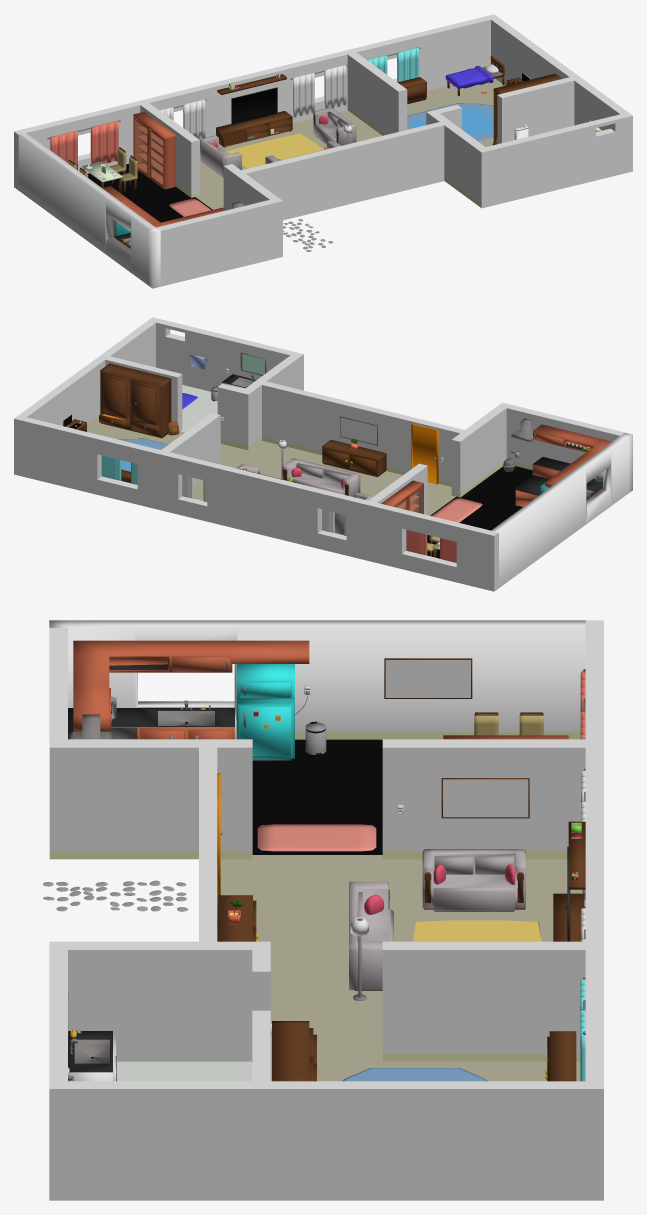
Rendered from HouseVariation.fbx.
The picture shows the model from 3 angles, top to bottom: view 1: azimuth 30°, elevation 25°; view 2: azimuth 150°, elevation 25°; view 3: azimuth 270°, elevation 25°; orthographic projection. The views are drawn at different scales.
Visible parts, largest first — view 1: Wall10, Wall8.001, Wall8.002, Wall7, Wall8, Ground, Wall9, Wall4, Wall1, Cube.003, Wall3, Wall6 (+19 smaller); view 2: Wall10, Wall7, Wall8.001, Ground, Wall8.002, Wall9, Closet, Wall5, Wall8, Wall3, Sofa, Wall1 (+14 smaller); view 3: Wall9, Ground, Wall7, Wall1, Wall5, Wall3, Wall6, Wall10, Kitchen Sink.002, Sofa.002, Refrigerator, Kitchen Sink (+18 smaller).
Boxes of the visible parts, box(x1,y1,x2,y2) form: Wall10: box(14, 14, 498, 190); Wall8.001: box(238, 121, 447, 220); Wall8.002: box(477, 114, 624, 208); Wall7: box(18, 133, 160, 288); Wall8: box(156, 199, 277, 286); Ground: box(87, 78, 504, 222); Wall9: box(491, 17, 632, 173); Wall4: box(497, 77, 574, 143); Wall1: box(347, 52, 407, 135); Cube.003: box(133, 111, 175, 189); Wall3: box(426, 110, 485, 204); Wall6: box(136, 99, 199, 197); Wall10: box(14, 415, 498, 591); Wall7: box(491, 432, 632, 587); Wall8.001: box(258, 381, 469, 486); Ground: box(87, 385, 532, 558); Wall8.002: box(155, 319, 303, 391); Wall9: box(19, 317, 160, 428); Closet: box(99, 363, 171, 438); Wall5: box(451, 402, 506, 497); Wall8: box(504, 404, 624, 469); Wall3: box(239, 355, 299, 450); Sofa: box(281, 458, 360, 496); Wall1: box(161, 413, 220, 489); Wall9: box(49, 1081, 585, 1200); Ground: box(117, 739, 585, 1081); Wall7: box(49, 620, 585, 739); Wall1: box(382, 941, 585, 1061); Wall5: box(49, 739, 252, 859); Wall3: box(68, 941, 270, 1061); Wall6: box(382, 739, 603, 859); Wall10: box(585, 620, 603, 1200); Kitchen Sink.002: box(73, 640, 309, 731); Sofa.002: box(422, 849, 525, 911); Refrigerator: box(236, 664, 294, 760); Kitchen Sink: box(68, 700, 234, 739).
Size of the model in its own units: 3120 by 362 by 1578.
